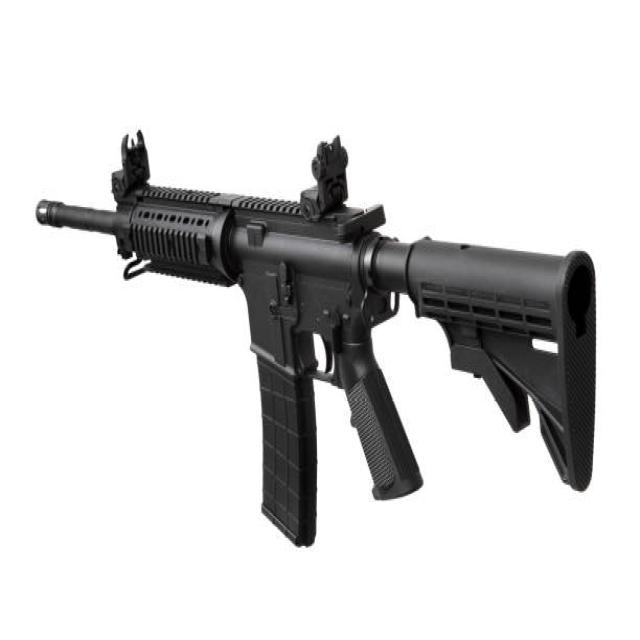rifle: (34, 128, 604, 569)
